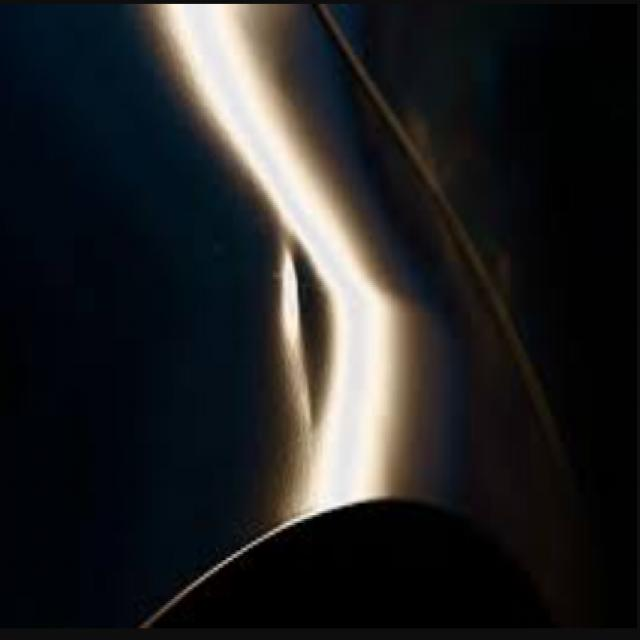dents: (274, 220, 359, 446)
